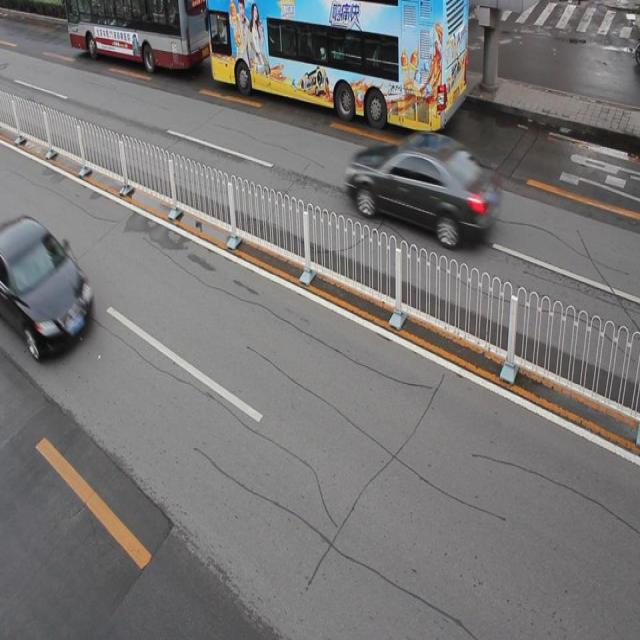car: (346, 129, 496, 247), (1, 214, 92, 356)
van: (207, 1, 466, 134), (65, 1, 210, 70)
